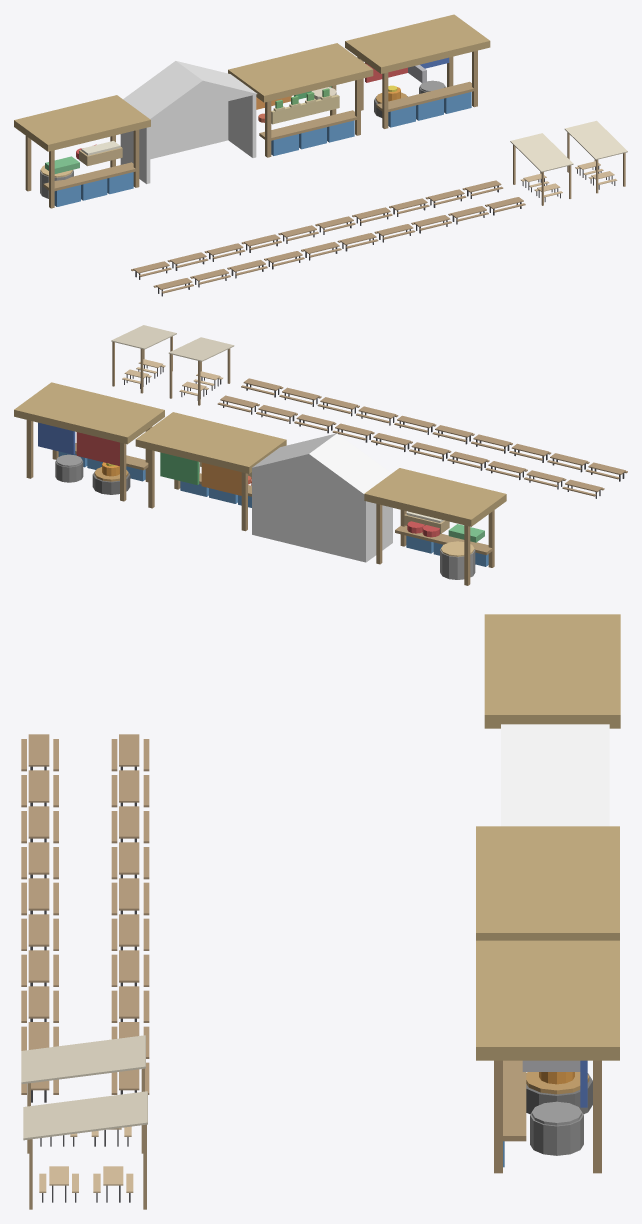
The model's file is F1_food.glb.
3 views of the same model, one above another, from view 1: azimuth 30°, elevation 25°; view 2: azimuth 150°, elevation 25°; view 3: azimuth 270°, elevation 25° (orthographic). The views are drawn at different scales.
Visible parts, largest first — view 1: Geom3D (×25); view 2: Geom3D (×26); view 3: Geom3D (×12).
Boxes of the visible parts, bbox=[...] form: Geom3D (×25): bbox=[14, 14, 627, 206]; Geom3D (×26): bbox=[14, 325, 506, 585]; Geom3D (×12): bbox=[21, 614, 620, 1173].
Bounding box in the file's own units: 40.16 × 7.74 × 22.39.
